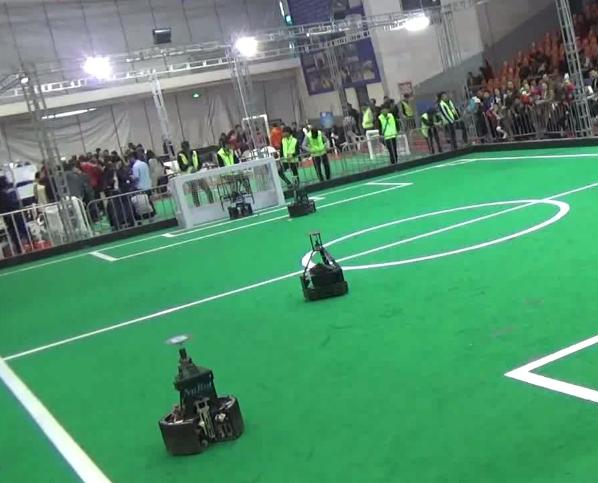robot: (151, 334, 252, 456), (297, 229, 352, 301)
